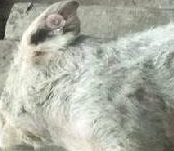text: (37, 5, 75, 38)
